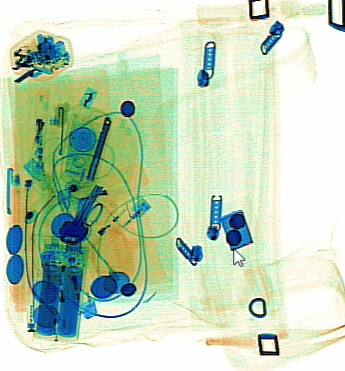lighter: (80, 192, 149, 252), (35, 245, 73, 329), (26, 86, 50, 183), (64, 245, 94, 321)
powerbank: (25, 235, 89, 341)
